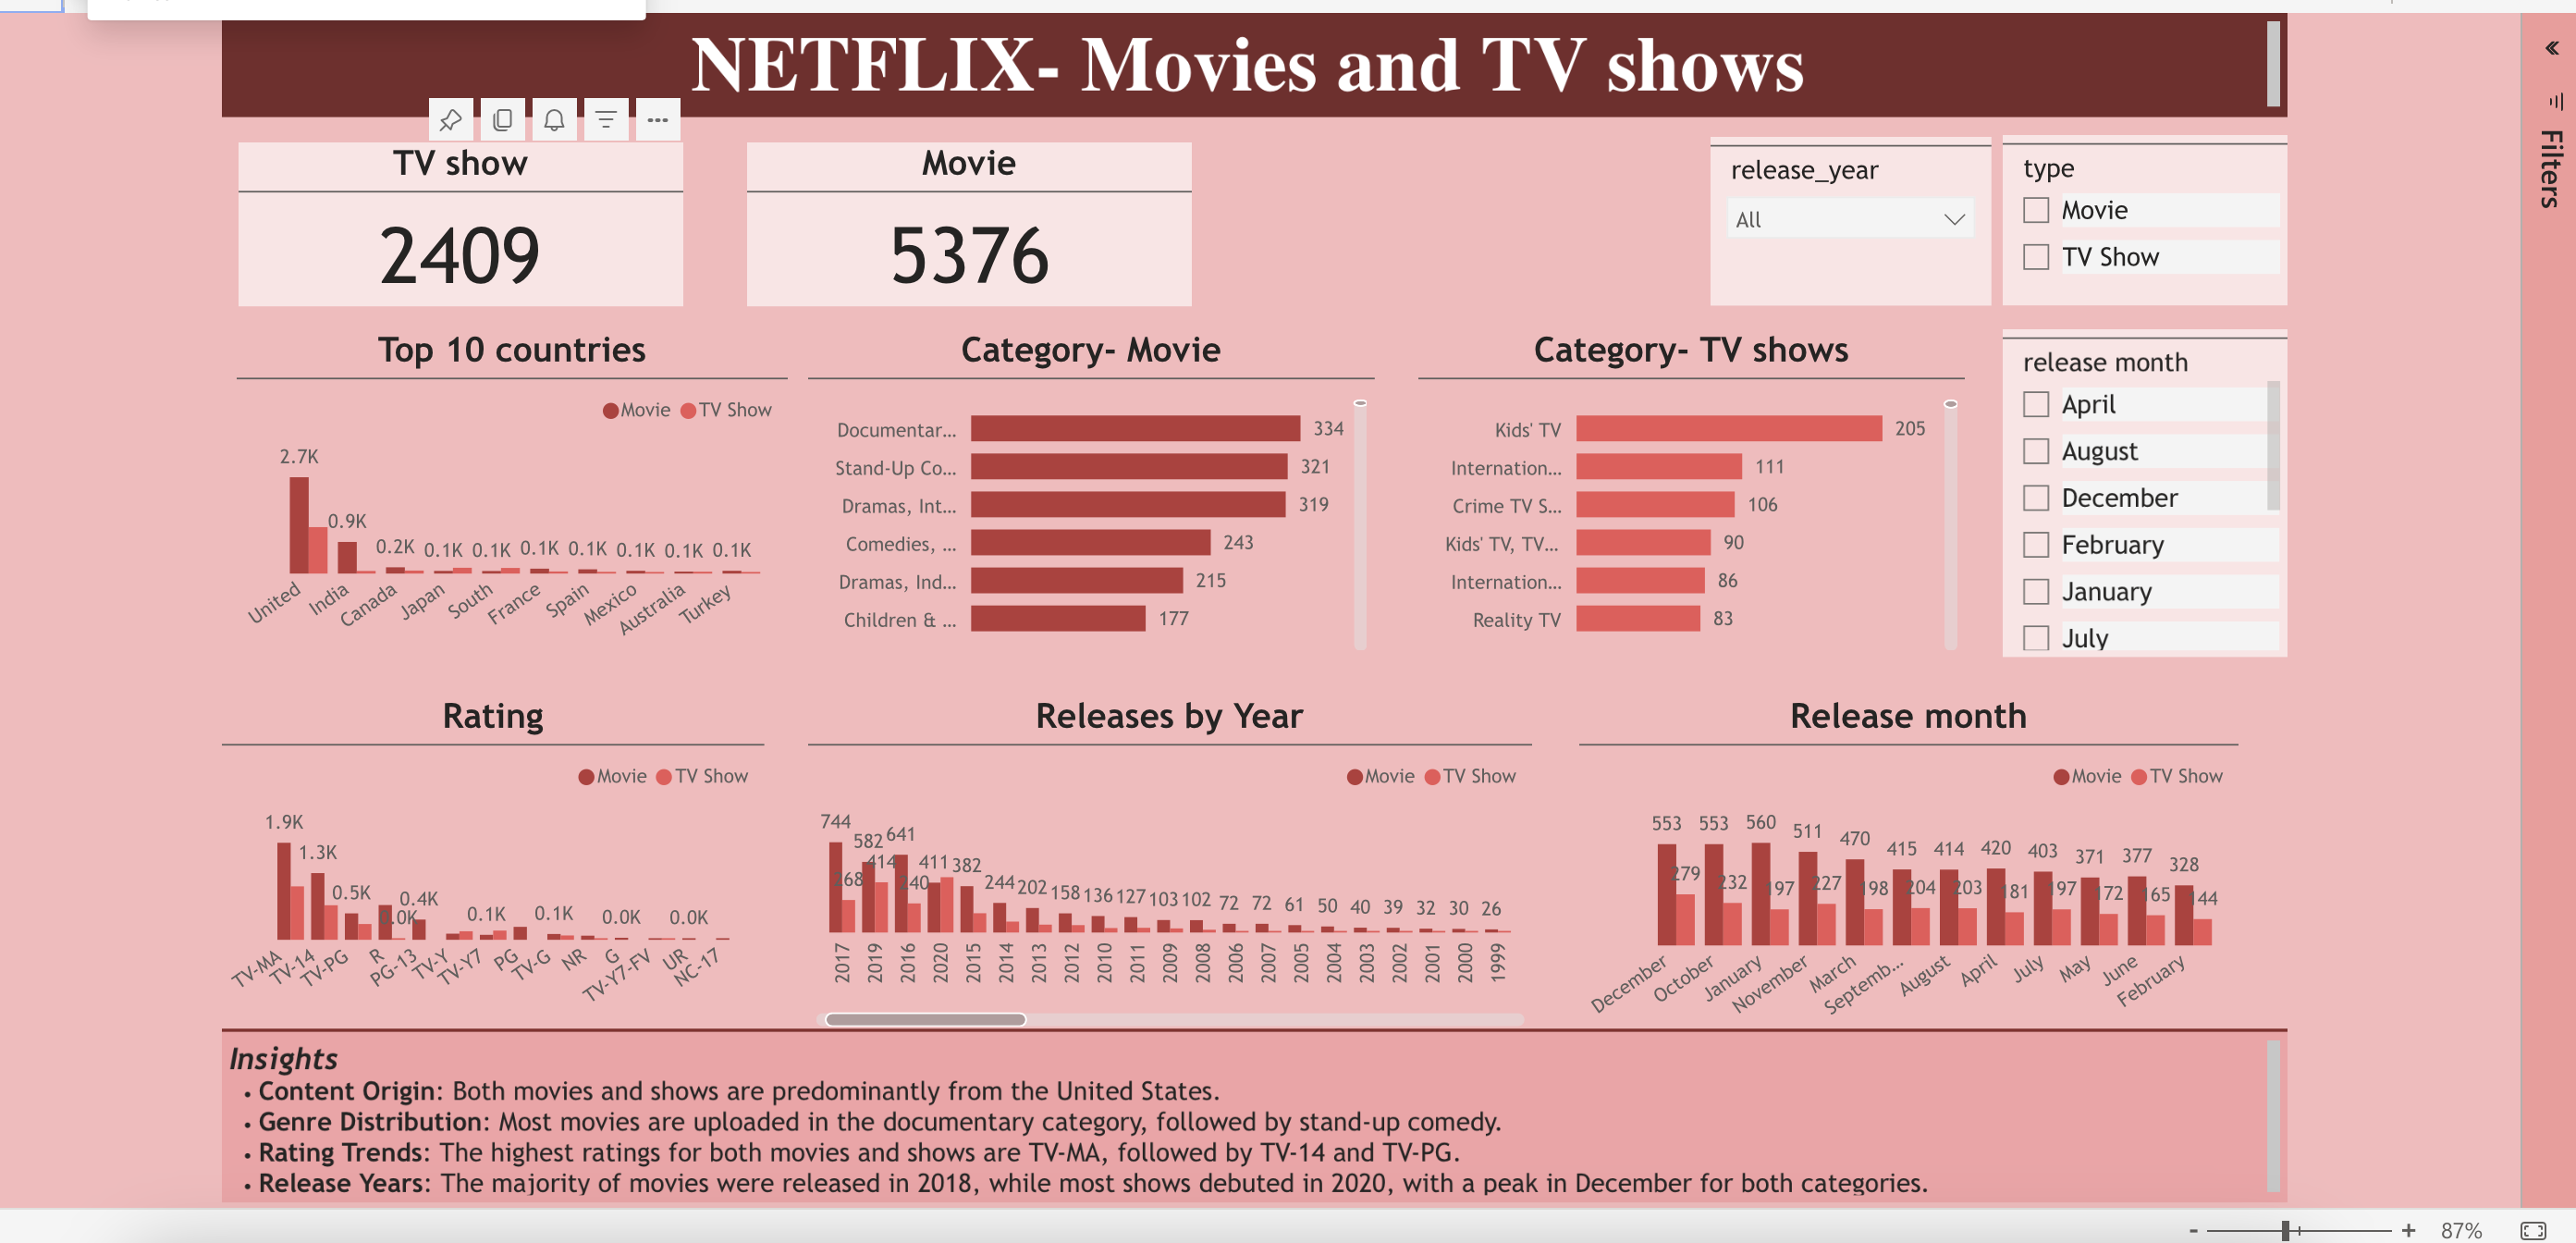

What the dashboard file says about the page in this screenshot:
{"tool":"powerbi","page":{"name":"Netflix- Shows vs Movies","canvas":[1280,740],"ordinal":1},"visuals":[{"type":"textbox","box":[0,0,1280.3,64.5],"z":0},{"type":"clusteredColumnChart","title":"Top 10 countries","fields":{"Series":["netflix_titles.type"],"Y":["CountNonNull(netflix_titles.type)"],"Category":["netflix_titles.country"]},"box":[9.6,196.2,341.7,203.1],"z":1000},{"type":"slicer","fields":{"Values":["netflix_titles.type"]},"box":[1103.3,75.5,177,105.7],"z":2000},{"type":"clusteredColumnChart","title":"Release month","fields":{"Category":["netflix_titles.release month"],"Y":["CountNonNull(netflix_titles.type)"],"Series":["netflix_titles.type"]},"box":[841.2,422.6,408.9,208.6],"z":3000},{"type":"clusteredColumnChart","title":"Rating","fields":{"Category":["netflix_titles.rating"],"Y":["CountNonNull(netflix_titles.type)"],"Series":["netflix_titles.type"]},"box":[0,422.6,336.2,203.1],"z":4000},{"type":"clusteredColumnChart","title":"Releases by Year","fields":{"Category":["netflix_titles.release_year"],"Y":["CountNonNull(netflix_titles.type)"],"Series":["netflix_titles.type"]},"box":[363.6,422.6,448.7,208.6],"z":5000},{"type":"clusteredBarChart","title":"Category- Movie","fields":{"Category":["netflix_titles.listed_in"],"Y":["CountNonNull(netflix_titles.type)"]},"box":[363.6,196.2,351.3,203.1],"z":6000},{"type":"slicer","fields":{"Values":["netflix_titles.release_year"]},"box":[922.1,76.8,174.3,104.3],"z":7000},{"type":"card","title":"TV show","fields":{"Values":["CountNonNull(netflix_titles.type)"]},"box":[9.9,79.9,275.8,101.5],"z":8000},{"type":"card","title":"Movie","fields":{"Values":["CountNonNull(netflix_titles.type)"]},"box":[325.5,79.9,275.8,101.5],"z":9000},{"type":"slicer","fields":{"Values":["netflix_titles.release month"]},"box":[1103.3,196.2,177,203.1],"z":10000},{"type":"shape","box":[0,616.1,1280.3,27.4],"z":11000},{"type":"textbox","box":[0,631.2,1280.3,105.7],"z":12000},{"type":"clusteredBarChart","title":"Category- TV shows","fields":{"Category":["netflix_titles.listed_in"],"Y":["CountNonNull(netflix_titles.type)"],"Series":["netflix_titles.type"]},"box":[741,196.2,338.9,203.1],"z":12001}]}

Visuals, with their boxes on the page's 1280x740 design canvas (x1, y1, x2, y2). These are canvas units, not pixel positions in the 2576x1243 screenshot, which may show the page scaled, cropped or inside an application window:
textbox: 0:0:1280:64
"Top 10 countries" clusteredColumnChart: 10:196:351:399
slicer - netflix_titles.type: 1103:76:1280:181
"Release month" clusteredColumnChart: 841:423:1250:631
"Rating" clusteredColumnChart: 0:423:336:626
"Releases by Year" clusteredColumnChart: 364:423:812:631
"Category- Movie" clusteredBarChart: 364:196:715:399
slicer - netflix_titles.release_year: 922:77:1096:181
"TV show" card: 10:80:286:181
"Movie" card: 326:80:601:181
slicer - netflix_titles.release month: 1103:196:1280:399
shape: 0:616:1280:644
textbox: 0:631:1280:737
"Category- TV shows" clusteredBarChart: 741:196:1080:399
